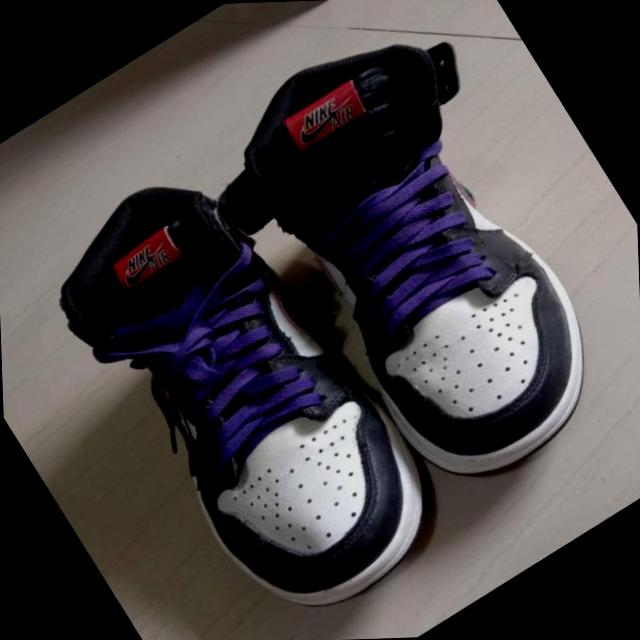nike_fake_jordan: (17, 126, 465, 640), (205, 0, 640, 516)
